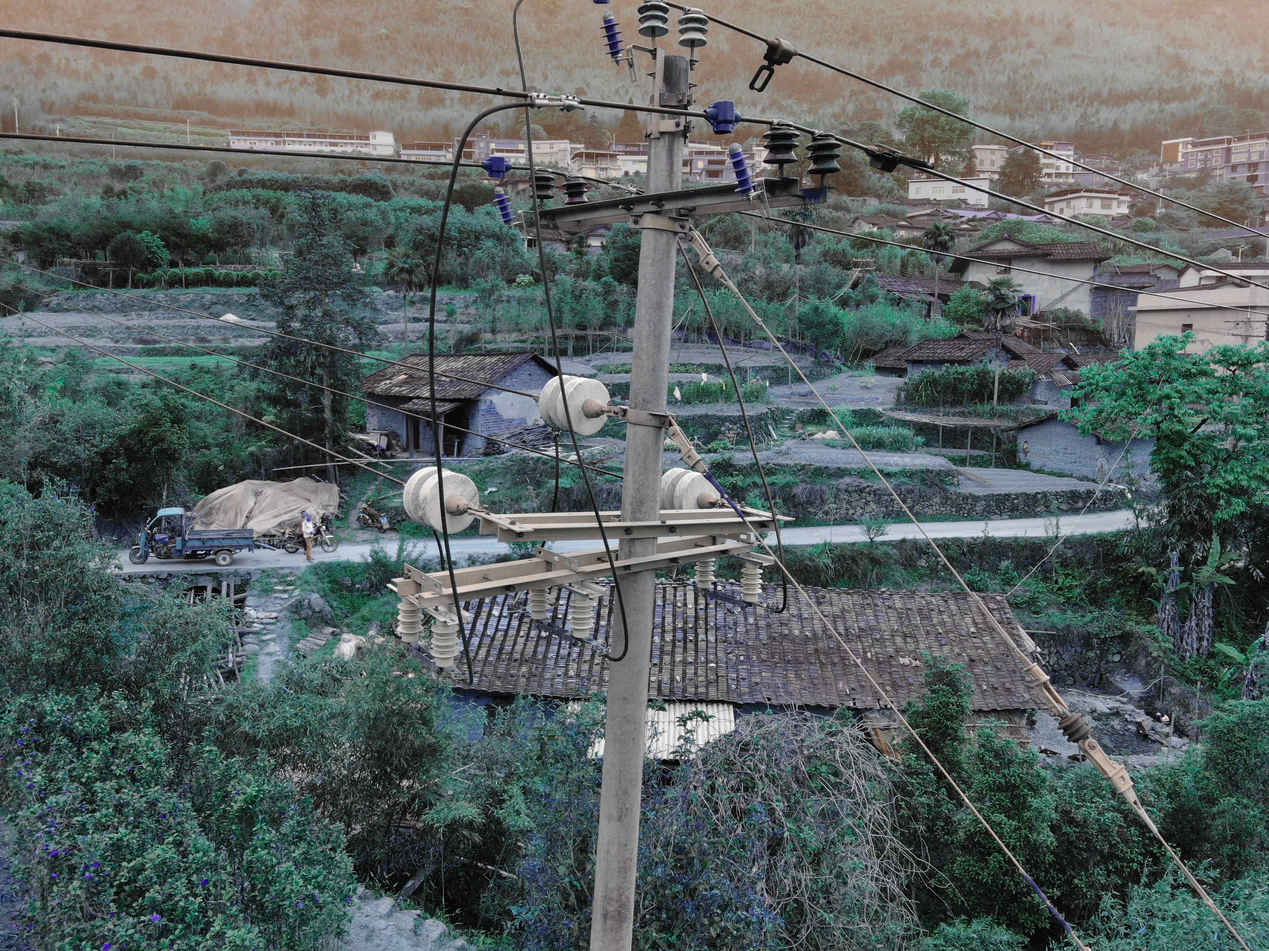severe_soiling_no_discharge_whole: (402, 465, 478, 531), (538, 374, 613, 437), (659, 468, 719, 506), (804, 133, 843, 176), (675, 8, 712, 50), (635, 2, 670, 38)
